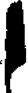Reed: (2, 1, 28, 93)
